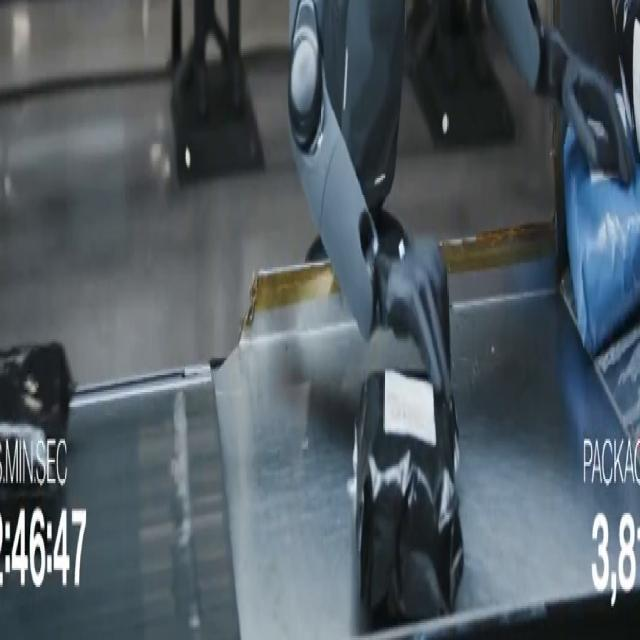package: (354, 371, 463, 629), (564, 96, 639, 356), (0, 344, 74, 500), (615, 0, 639, 152)
